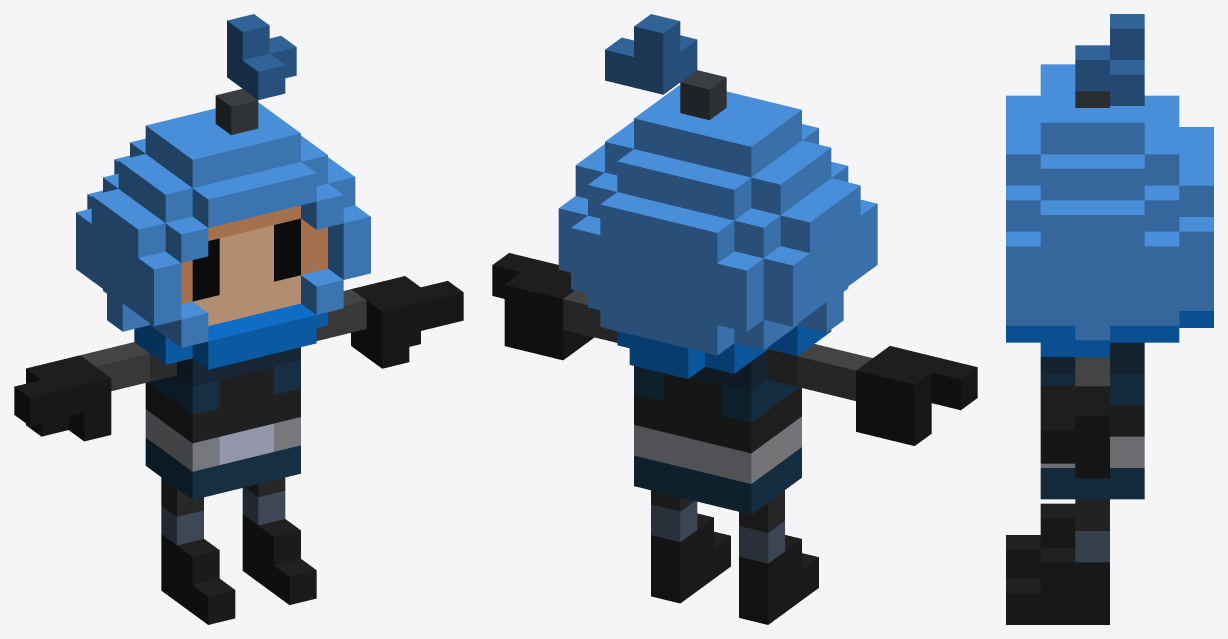
Rendered from blue3.obj.
The picture shows the model from 3 angles, left to right: view 1: azimuth 30°, elevation 25°; view 2: azimuth 150°, elevation 25°; view 3: azimuth 270°, elevation 25°; orthographic projection. The views are drawn at different scales.
Bounding box in the file's own units: 16 × 19 × 6.
1 material, 1 textured.
